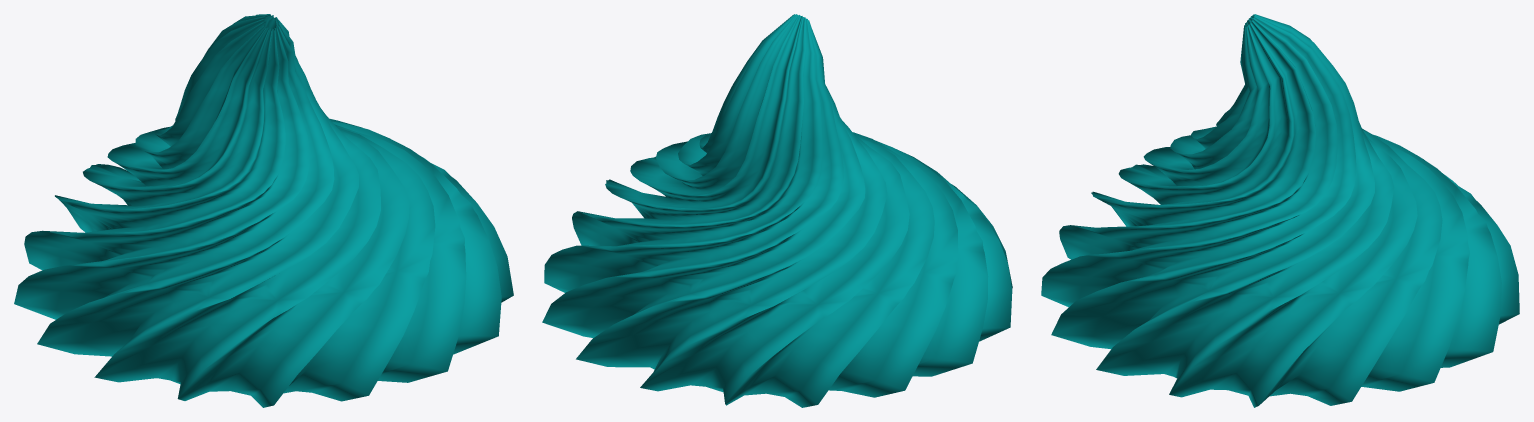
Rendered from Sivri_Krema_Parcasi.fbx.
The picture shows the model from 3 angles, left to right: view 1: azimuth 30°, elevation 25°; view 2: azimuth 150°, elevation 25°; view 3: azimuth 270°, elevation 25°; orthographic projection. The views are drawn at different scales.
Parts seen in each view (by area): view 1: pCylinder3; view 2: pCylinder3; view 3: pCylinder3.
Boxes of the visible parts, x1,y1,x2,y2 form: pCylinder3: [14, 14, 513, 407]; pCylinder3: [542, 14, 1012, 407]; pCylinder3: [1041, 14, 1519, 407].
Bounding box in the file's own units: 0.4193 × 0.3125 × 0.4193.
